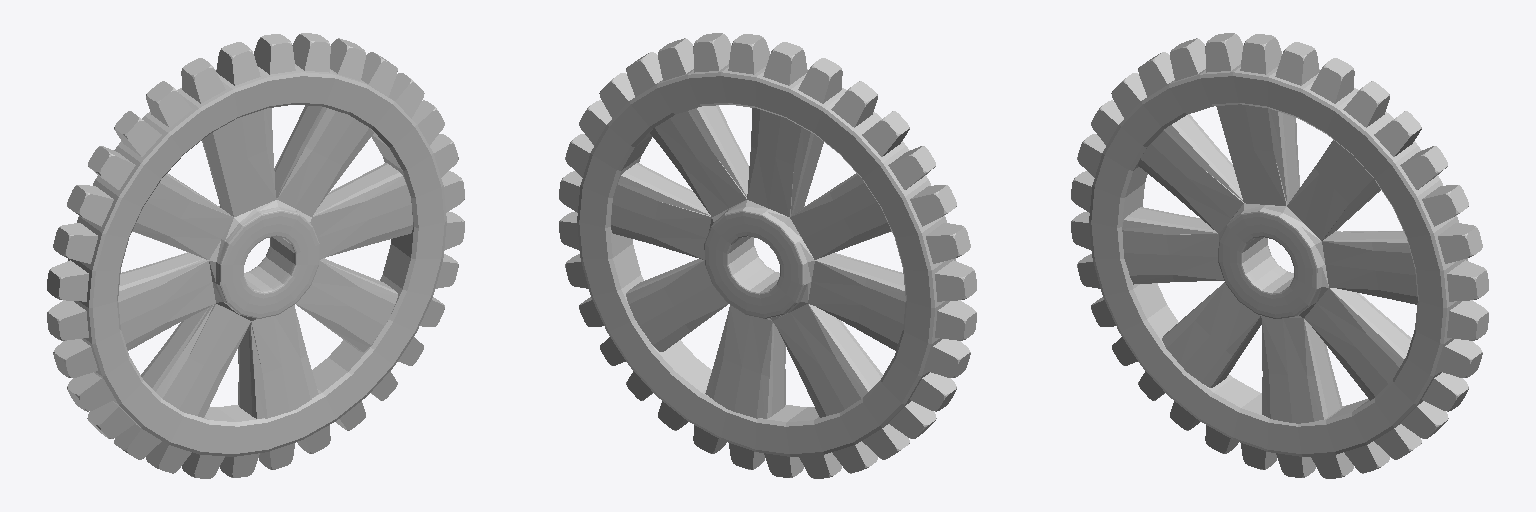
File: gear5.obj
The picture shows the model from 3 angles: view 1: azimuth 30°, elevation 25°; view 2: azimuth 150°, elevation 25°; view 3: azimuth 330°, elevation 25°; orthographic projection.
Visible parts, largest first — view 1: Cylinder.017_Cylinder.032; view 2: Cylinder.017_Cylinder.032; view 3: Cylinder.017_Cylinder.032.
Boxes of the visible parts, x1=… form: Cylinder.017_Cylinder.032: x1=47, y1=33, x2=464, y2=478; Cylinder.017_Cylinder.032: x1=559, y1=33, x2=976, y2=478; Cylinder.017_Cylinder.032: x1=1071, y1=33, x2=1488, y2=478.
Size of the model in its own units: 2.09 by 2.09 by 0.2401.